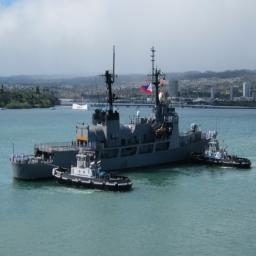Fragata: (34, 35, 224, 180)
